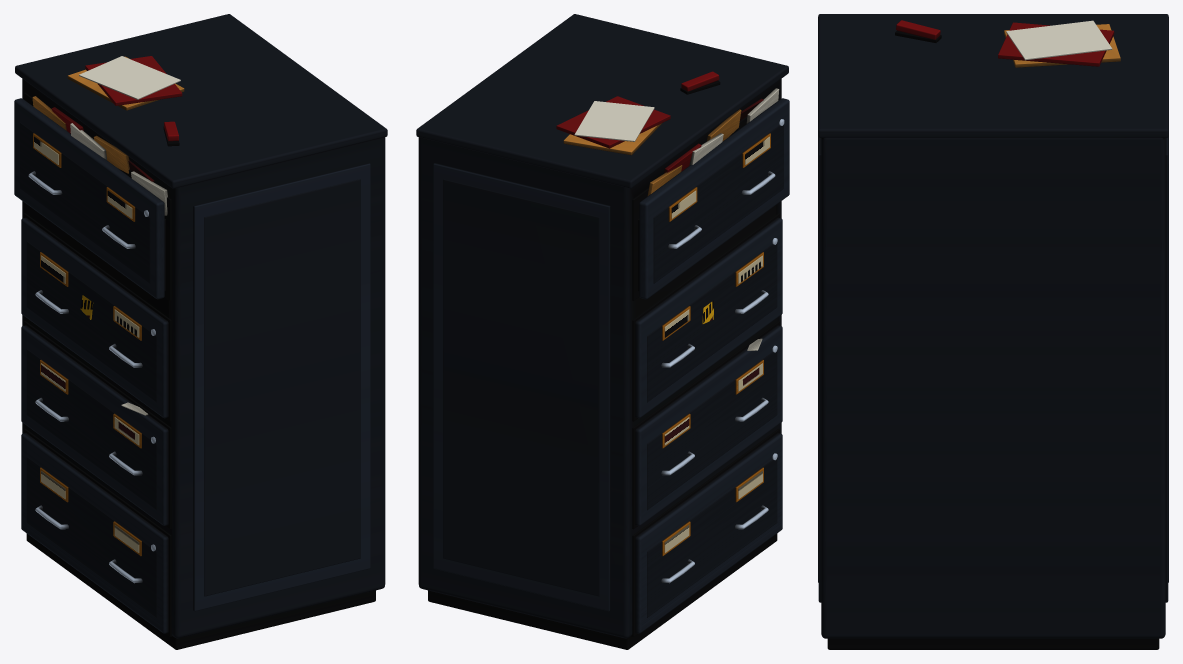
File: prop_filing_cabinet.glb
3 views of the same model, side by side, from view 1: azimuth 30°, elevation 25°; view 2: azimuth 150°, elevation 25°; view 3: azimuth 270°, elevation 25° (orthographic). The views are drawn at different scales.
Visible parts, largest first — view 1: prop_filing_cabinet; view 2: prop_filing_cabinet; view 3: prop_filing_cabinet.
Part boxes in pixels (x1,y1,x2,y2): prop_filing_cabinet: (14,14,387,649); prop_filing_cabinet: (416,14,789,649); prop_filing_cabinet: (818,14,1168,649).
Bounding box in the file's own units: 0.9485 × 1.89 × 1.12.
Materials: 10 (10 with a texture image).
